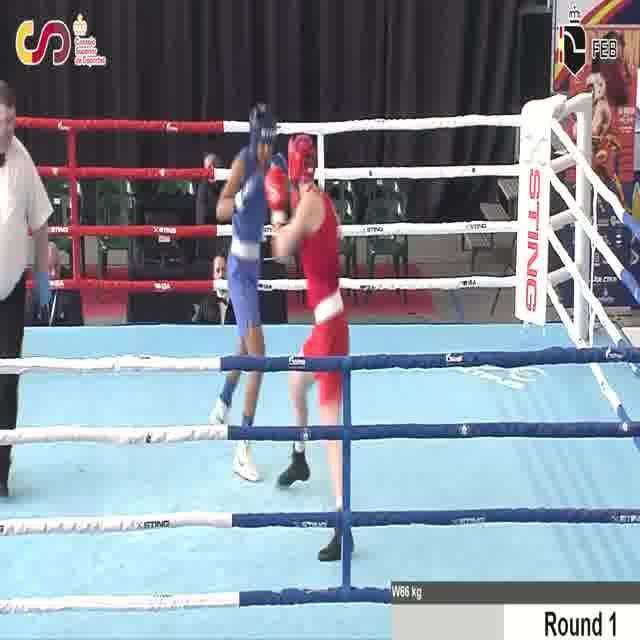blue-player: (211, 103, 285, 486)
red-player: (263, 132, 355, 564)
referee: (0, 72, 57, 505)
